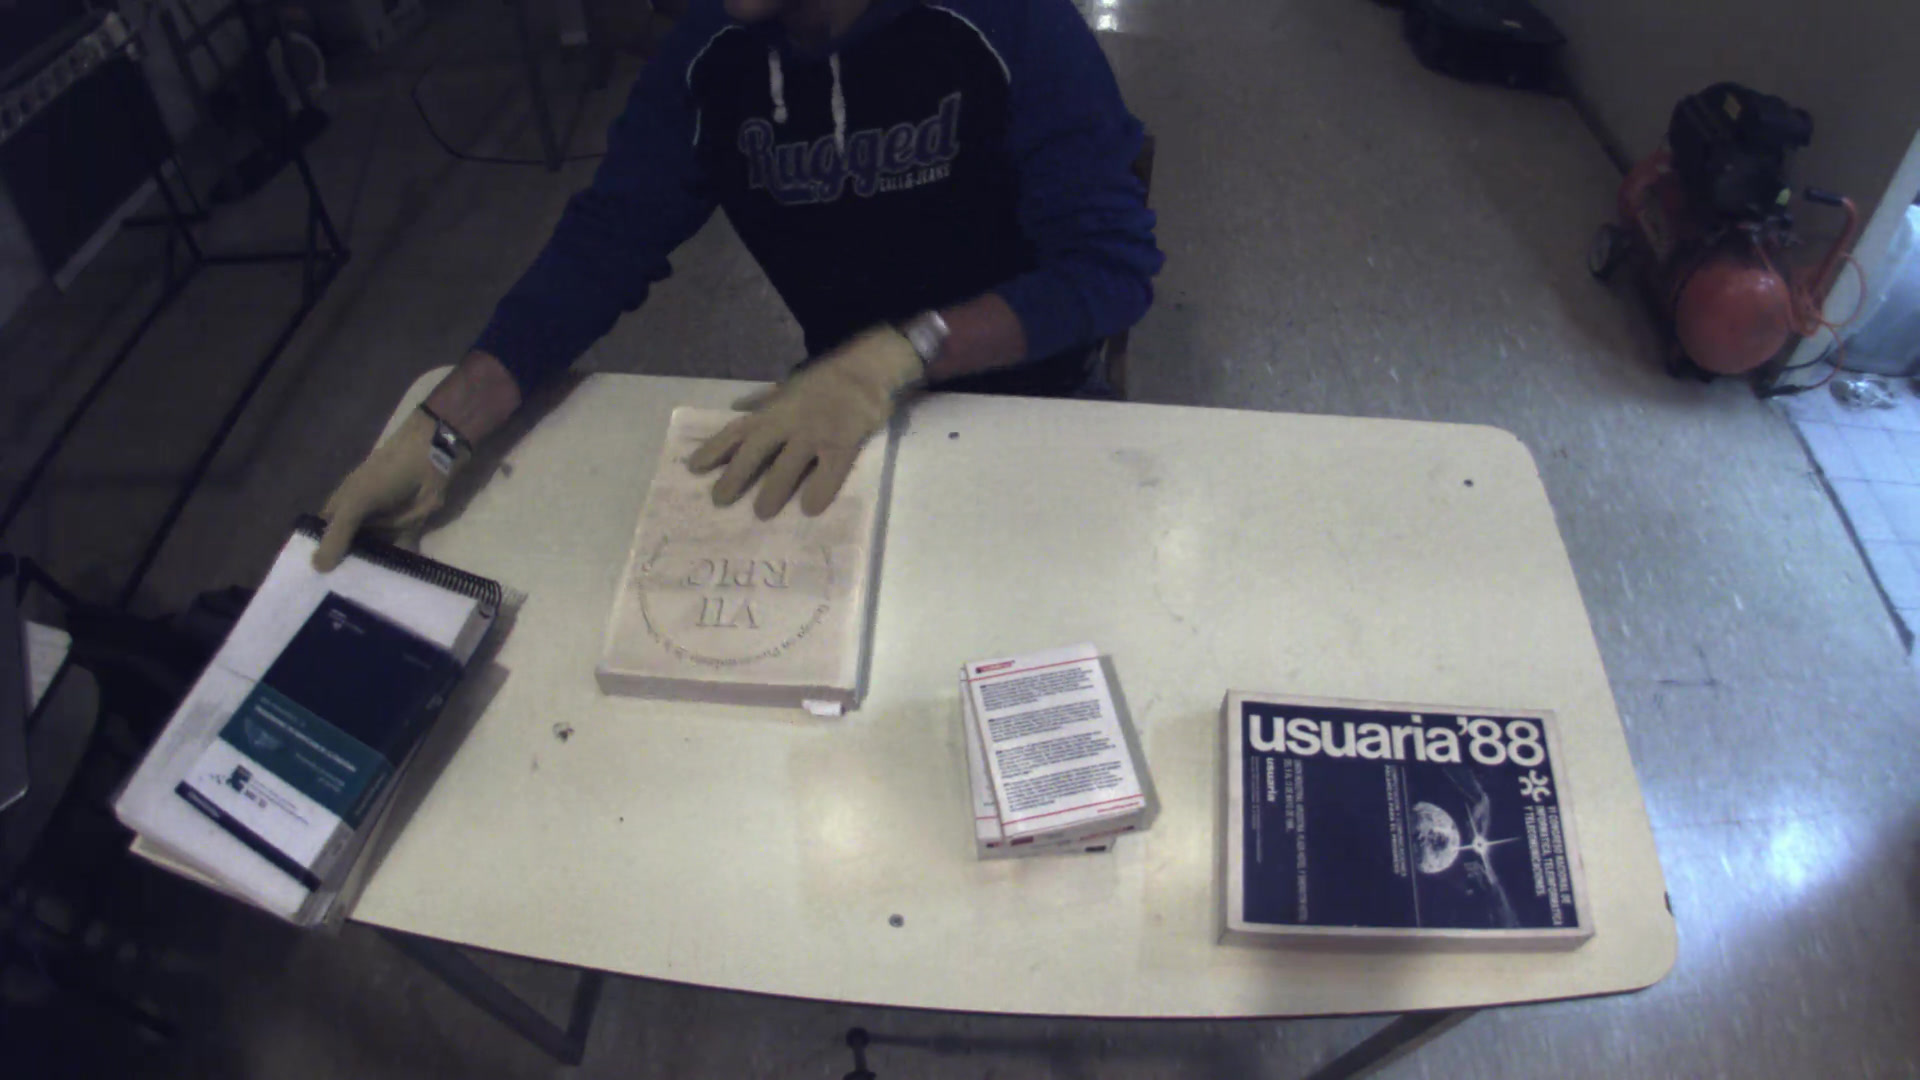hand: (670, 313, 942, 527), (294, 364, 450, 583)
